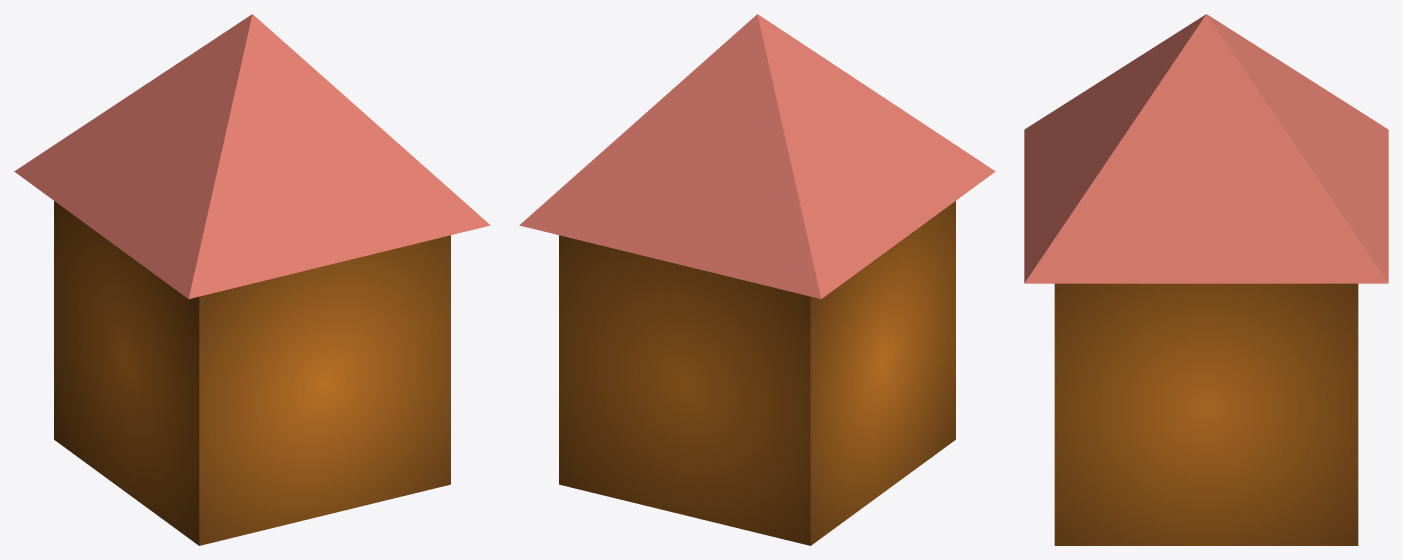
Rendered from house.glb.
3 views of the same model, side by side, from view 1: azimuth 30°, elevation 25°; view 2: azimuth 150°, elevation 25°; view 3: azimuth 270°, elevation 25° (orthographic). The views are drawn at different scales.
Parts seen in each view (by area): view 1: House; view 2: House; view 3: House.
Part boxes in pixels (x1,y1,x2,y2): House: (14,14,490,545); House: (519,14,995,545); House: (1024,14,1388,545).
Size of the model in its own units: 1.2 by 1.7 by 1.2.
2 materials, 1 textured.
